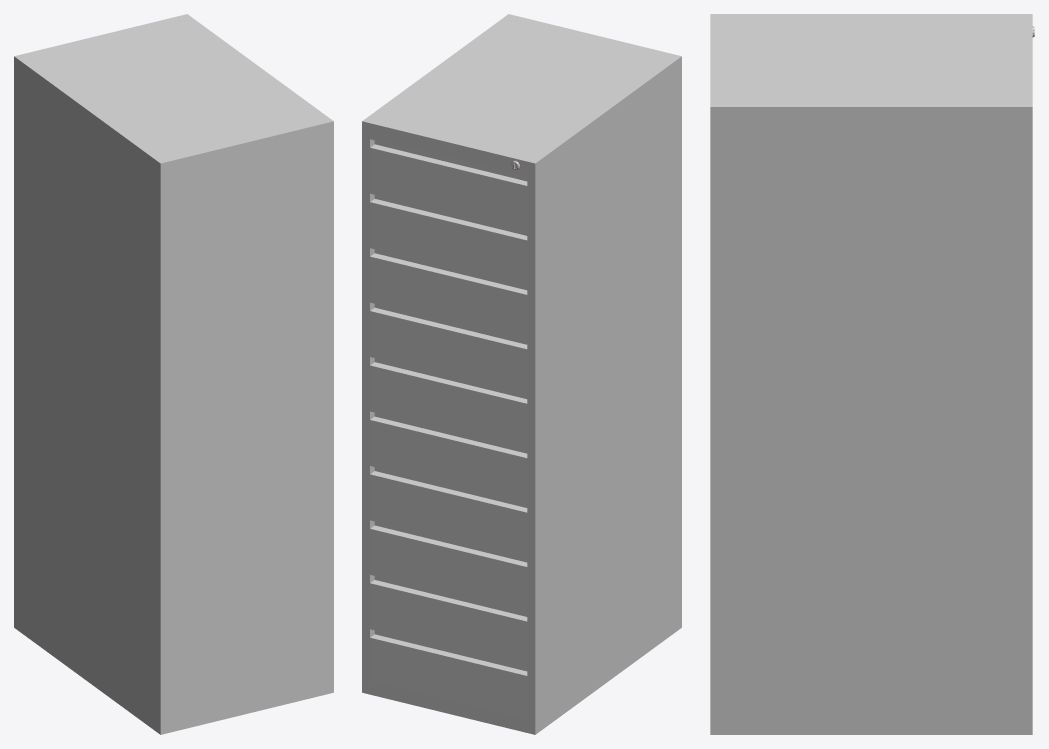
3 renders of one model, left to right at view 1: azimuth 30°, elevation 25°; view 2: azimuth 150°, elevation 25°; view 3: azimuth 270°, elevation 25°, orthographic. The views are drawn at different scales.
Visible parts, largest first — view 1: mesh1_mesh1-geometry; view 2: mesh1_mesh1-geometry, mesh4_mesh4-geometry, mesh18_mesh18-geometry, mesh22_mesh22-geometry, mesh14_mesh14-geometry, mesh6_mesh6-geometry, mesh10_mesh10-geometry, mesh16_mesh16-geometry, mesh20_mesh20-geometry, mesh8_mesh8-geometry, mesh12_mesh12-geometry; view 3: mesh1_mesh1-geometry.
Part boxes in pixels (box(x1,y1,x2,y2)): mesh1_mesh1-geometry: box(14, 14, 333, 734); mesh1_mesh1-geometry: box(362, 14, 681, 734); mesh4_mesh4-geometry: box(370, 137, 527, 229); mesh18_mesh18-geometry: box(370, 409, 527, 501); mesh22_mesh22-geometry: box(370, 627, 527, 719); mesh14_mesh14-geometry: box(370, 354, 527, 446); mesh6_mesh6-geometry: box(370, 191, 527, 283); mesh10_mesh10-geometry: box(370, 300, 527, 392); mesh16_mesh16-geometry: box(370, 518, 527, 610); mesh20_mesh20-geometry: box(370, 572, 527, 664); mesh8_mesh8-geometry: box(370, 245, 527, 338); mesh12_mesh12-geometry: box(370, 463, 527, 555); mesh1_mesh1-geometry: box(710, 14, 1034, 734).
Size of the model in its own units: 0.2762 by 0.8704 by 0.4075.
